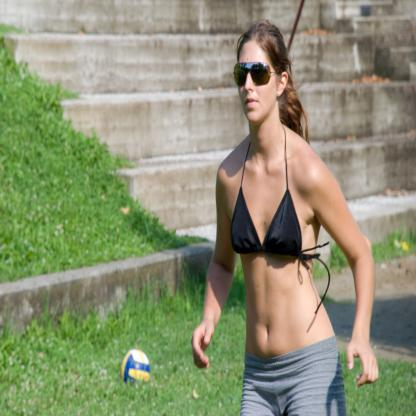Ball: (122, 348, 150, 385)
